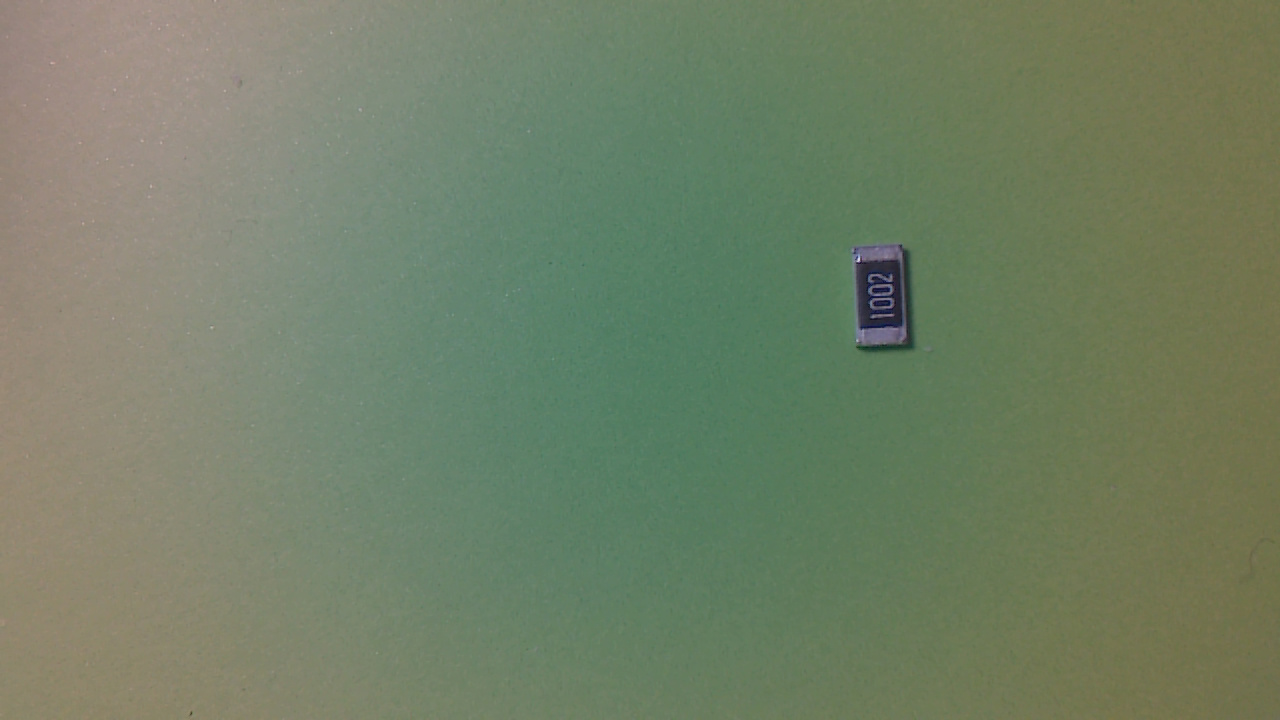Resistor: (853, 243, 922, 368)
